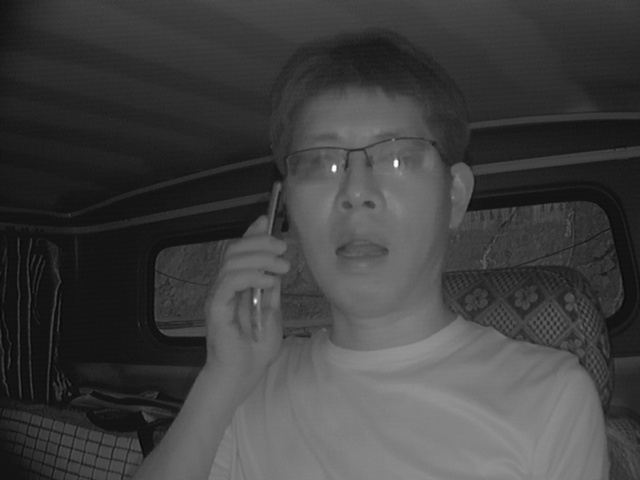hand: (196, 216, 289, 373)
